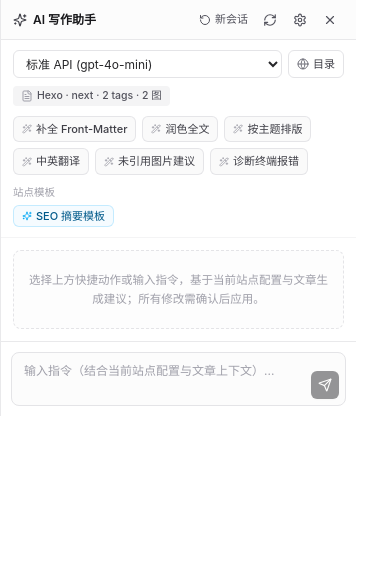
Test: Phase 4B: Site custom prompts, ACP permission approval, multi-turn sessions, registry, and unused-image AI hook › loads site prompts, handles ACP permission approval card, keeps multi-turn session, and resets via 新会话
Click the button "SEO 摘要模板".
click(64, 216)  # box 13,204 -> 114,227
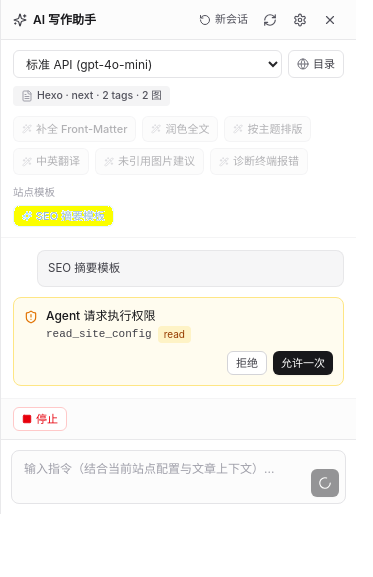
Now the element with test id "acp-permission-card" is shown, box 13,297 -> 344,386
Now the element with test id "acp-permission-card" shows "read_site_config", box 46,328 -> 152,340
Click the button with test id "acp-permission-allow".
click(303, 363)  # box 273,351 -> 333,375
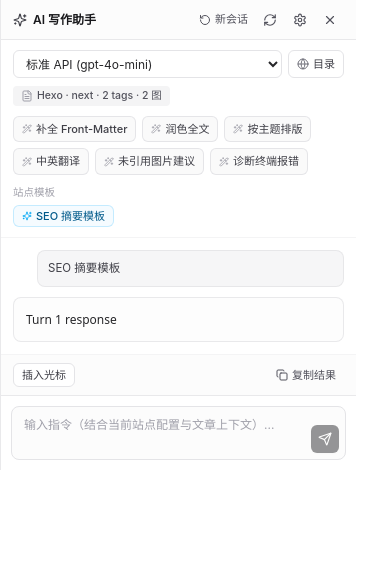
Now the element with test id "acp-permission-card" is gone
Now the text with test id "ai-output-text" reads "Turn 1 response", box 26,311 -> 117,328
Click the button "未引用图片建议".
click(150, 162)  # box 95,148 -> 204,175
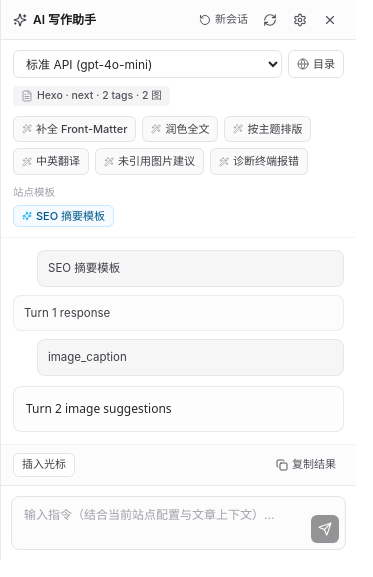
Now the element with test id "ai-conversation-turns" shows "Turn 1 response", box 24,306 -> 110,320
Click the button with test id "ai-new-session-btn".
click(224, 20)  # box 193,8 -> 254,32
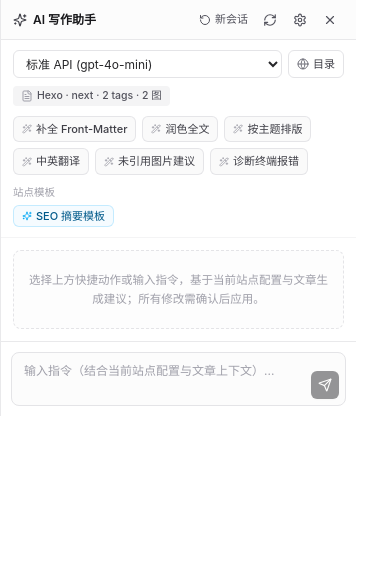
Now the element with test id "ai-conversation-turns" is gone
